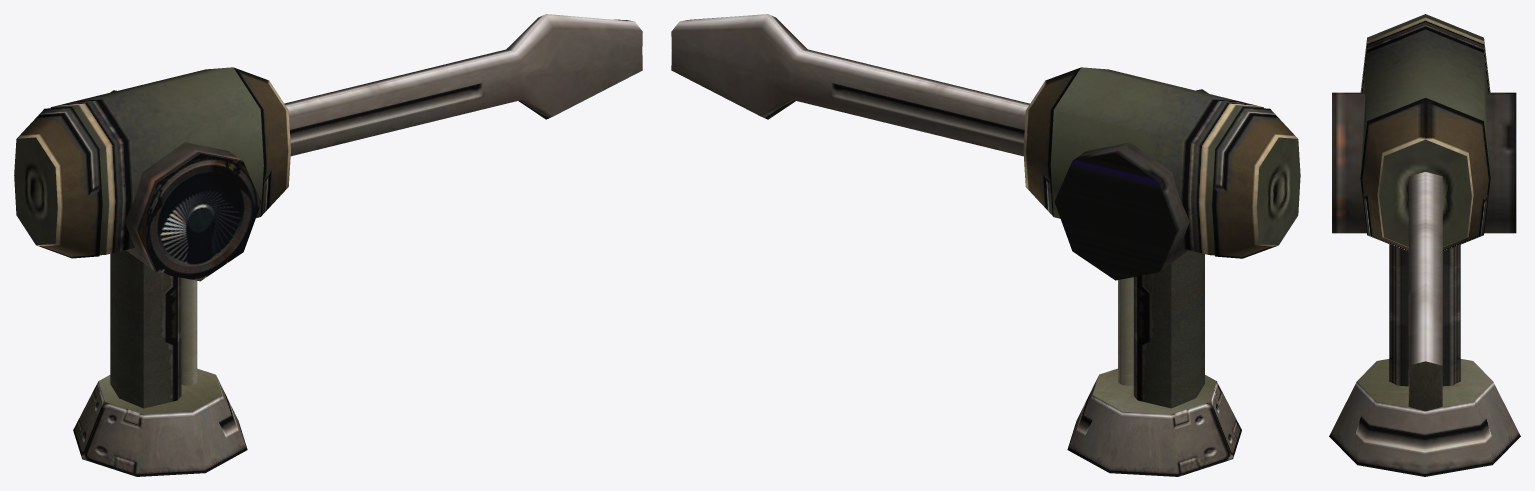
File: hammer.obj
3 views of the same model, side by side, from view 1: azimuth 30°, elevation 25°; view 2: azimuth 150°, elevation 25°; view 3: azimuth 270°, elevation 25° (orthographic). The views are drawn at different scales.
Visible parts, largest first — view 1: pCylinder14 group24 pCylinder17, pCylinder14 group24 pCylinder15, pCylinder14 group24, group24 pCylinder12, pCylinder14 group24 pCylinder16, group24 pCylinder11, group24 pCylinder13; view 2: pCylinder14 group24 pCylinder17, pCylinder14 group24 pCylinder15, pCylinder14 group24, group24 pCylinder12, pCylinder14 group24 pCylinder16, group24 pCylinder11, group24 pCylinder13; view 3: pCylinder14 group24 pCylinder15, group24 pCylinder12, pCylinder14 group24, pCylinder14 group24 pCylinder17, group24 pCylinder11, pCylinder14 group24 pCylinder16.
Part boxes in pixels (x1,y1,x2,y2): pCylinder14 group24 pCylinder17: [284, 14, 642, 156]; pCylinder14 group24 pCylinder15: [50, 67, 290, 255]; pCylinder14 group24: [110, 90, 261, 281]; group24 pCylinder12: [73, 368, 247, 476]; pCylinder14 group24 pCylinder16: [14, 106, 102, 258]; group24 pCylinder11: [110, 250, 181, 408]; group24 pCylinder13: [181, 278, 197, 385]; pCylinder14 group24 pCylinder17: [671, 14, 1029, 156]; pCylinder14 group24 pCylinder15: [1023, 67, 1263, 255]; pCylinder14 group24: [1054, 89, 1208, 280]; group24 pCylinder12: [1067, 368, 1241, 476]; pCylinder14 group24 pCylinder16: [1212, 106, 1300, 258]; group24 pCylinder11: [1133, 250, 1204, 408]; group24 pCylinder13: [1118, 277, 1133, 385]; pCylinder14 group24 pCylinder15: [1360, 17, 1490, 251]; group24 pCylinder12: [1329, 359, 1520, 476]; pCylinder14 group24: [1332, 92, 1516, 233]; pCylinder14 group24 pCylinder17: [1408, 172, 1442, 411]; group24 pCylinder11: [1389, 244, 1460, 386]; pCylinder14 group24 pCylinder16: [1360, 14, 1490, 92].
Bounding box in the file's own units: 14.51 × 8.15 × 3.76.
3 materials, 3 textured.
